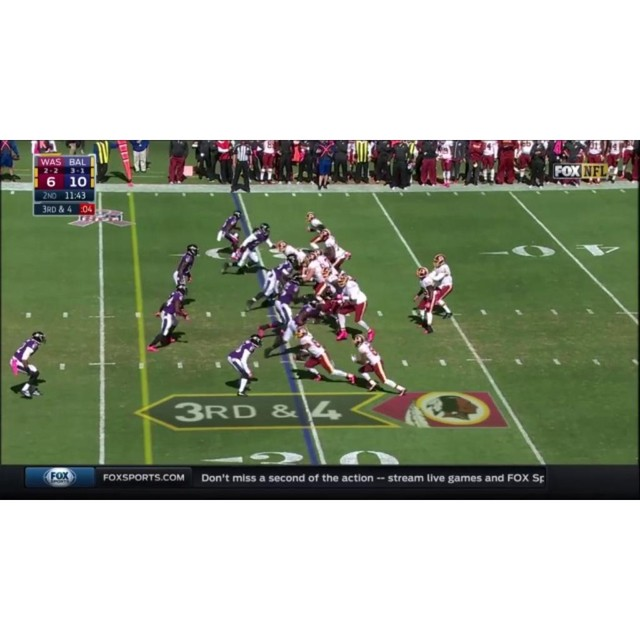american-football-player: (265, 296, 322, 359), (352, 333, 405, 394), (146, 284, 190, 353), (296, 329, 352, 383), (245, 257, 296, 312), (257, 277, 303, 337), (335, 274, 375, 341), (9, 330, 48, 397), (229, 222, 274, 275), (226, 334, 263, 396), (408, 269, 439, 334), (429, 254, 455, 317), (321, 230, 352, 272), (215, 211, 244, 254), (172, 243, 199, 289), (301, 254, 328, 299), (276, 240, 308, 269), (305, 211, 329, 248)
referee: (229, 141, 254, 193)
